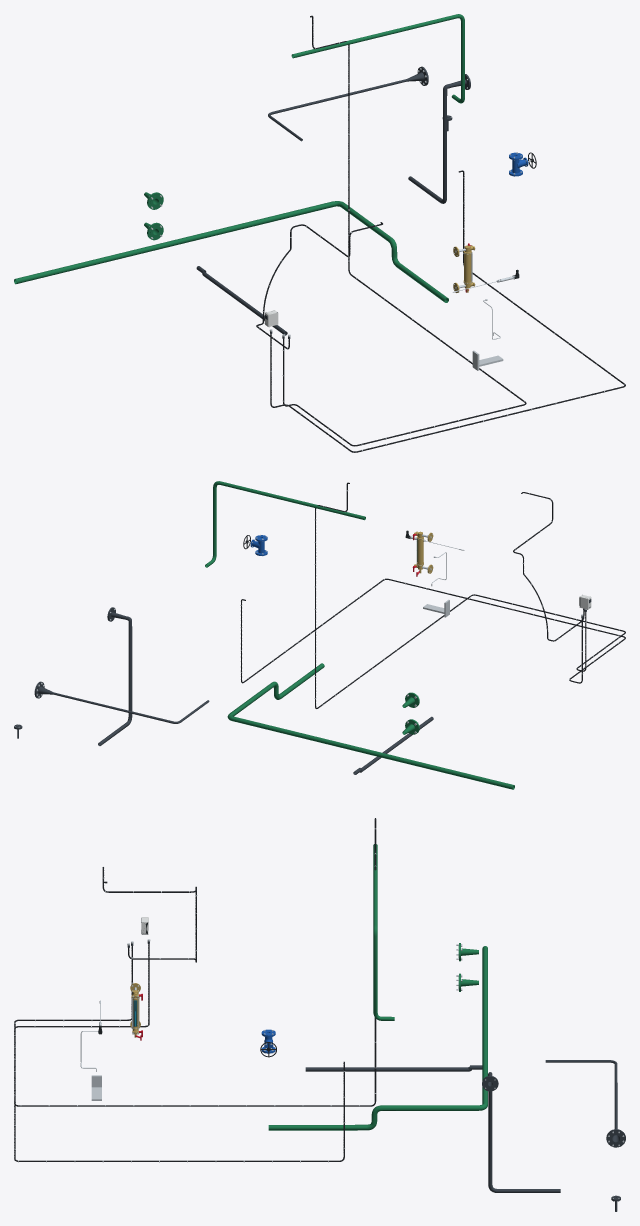
The model's file is s4000-7-BIog7yyt.glb.
The picture shows the model from 3 angles, top to bottom: view 1: azimuth 30°, elevation 25°; view 2: azimuth 150°, elevation 25°; view 3: azimuth 270°, elevation 25°; orthographic projection. The views are drawn at different scales.
Parts seen in each view (by area): view 1: suction_common / green, mod_eco_drive_cable / black, wiring_pump_2 / black, to_direct / green, bottom_to_bdv / dark, tds_to_fv / dark; view 2: suction_common / green, mod_eco_drive_cable / black, wiring_pump_2 / black, to_direct / green, bottom_to_bdv / dark, tds_to_fv / dark, sight_glasses_1 / sight_glasses_1_0.npz, wiring_lp200 / black; view 3: suction_common / green, mod_eco_drive_cable / black, wiring_pump_2 / black, bottom_to_bdv / dark, to_direct / green, bottom_piping / dark, tds_to_fv / dark.
Boxes of the visible parts, x1,y1,x2,y2 form: suction_common / green: (14, 201, 448, 302); mod_eco_drive_cable / black: (283, 15, 526, 446); wiring_pump_2 / black: (270, 170, 625, 452); to_direct / green: (313, 14, 464, 103); bottom_to_bdv / dark: (408, 74, 470, 203); tds_to_fv / dark: (268, 66, 428, 141); suction_common / green: (227, 663, 514, 789); mod_eco_drive_cable / black: (315, 482, 625, 708); wiring_pump_2 / black: (241, 578, 625, 683); to_direct / green: (205, 481, 346, 567); bottom_to_bdv / dark: (98, 607, 132, 745); tds_to_fv / dark: (34, 681, 209, 723); sight_glasses_1 / sight_glasses_1_0.npz: (412, 531, 433, 576); wiring_lp200 / black: (513, 492, 584, 641); suction_common / green: (268, 946, 487, 1130); mod_eco_drive_cable / black: (14, 818, 376, 1106); wiring_pump_2 / black: (14, 944, 344, 1161); bottom_to_bdv / dark: (482, 1072, 560, 1192); to_direct / green: (373, 854, 394, 1020); bottom_piping / dark: (305, 1066, 471, 1071); tds_to_fv / dark: (545, 1060, 625, 1147).
Size of the model in its own units: 5.8 by 3.09 by 6.08.
